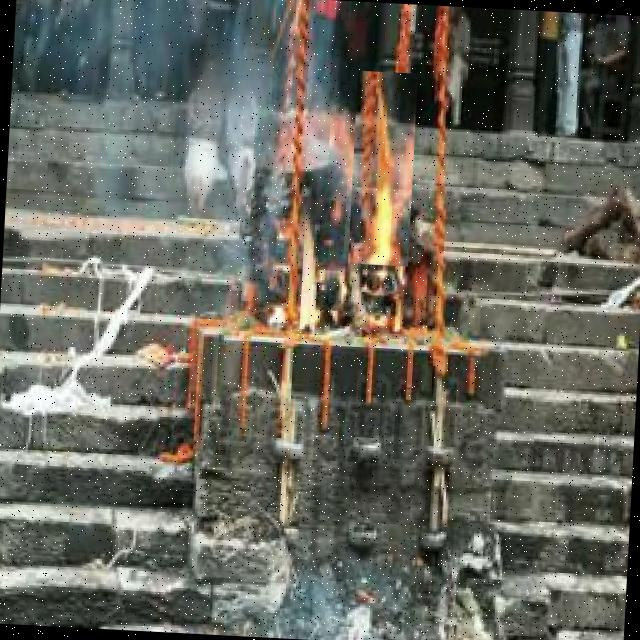fire: (348, 70, 418, 266)
